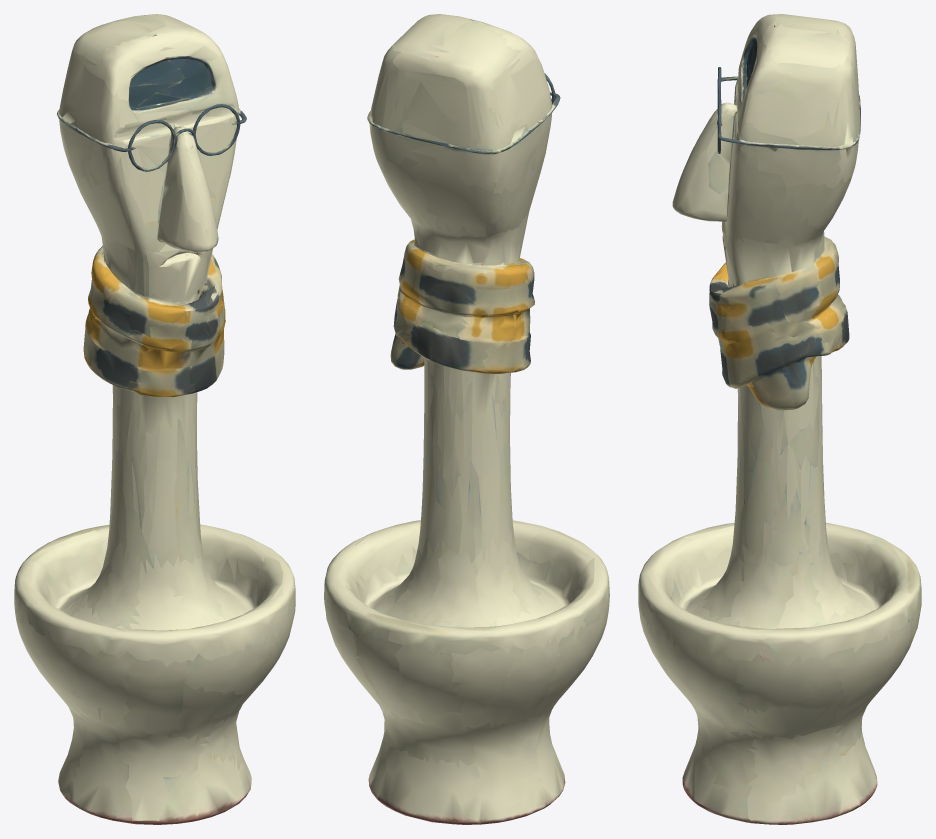
The model's file is plunger_glasses.glb.
3 views of the same model, side by side, from view 1: azimuth 30°, elevation 25°; view 2: azimuth 150°, elevation 25°; view 3: azimuth 270°, elevation 25° (orthographic).
Bounding box in the file's own units: 0.6444 × 1.9 × 0.6435.
1 material, 1 textured.
